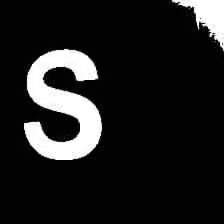LTR_S: (16, 42, 106, 164)
